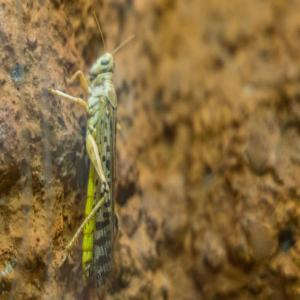locust: (81, 22, 128, 294)
